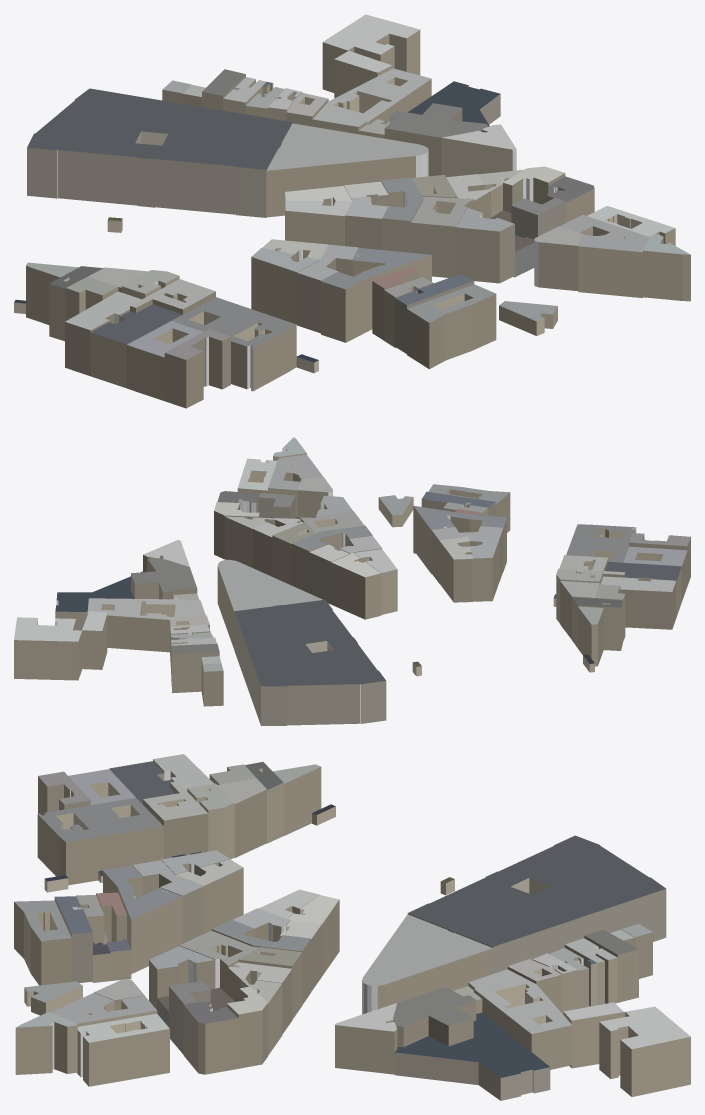
3 renders of one model, top to bottom at view 1: azimuth 30°, elevation 25°; view 2: azimuth 150°, elevation 25°; view 3: azimuth 270°, elevation 25°, orthographic. The views are drawn at different scales.
Visible parts, largest first — view 1: tuile; view 2: tuile; view 3: tuile.
Boxes of the visible parts, x1=… form: tuile: x1=14, y1=14, x2=690, y2=408; tuile: x1=14, y1=437, x2=690, y2=725; tuile: x1=14, y1=754, x2=690, y2=1100.
Bounding box in the file's own units: 288 × 29.53 × 281.
